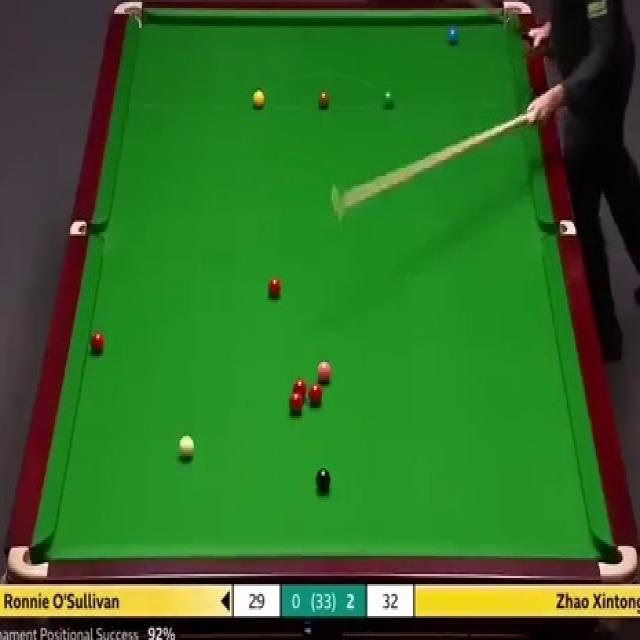black-ball: (315, 469, 332, 488)
blue-ball: (448, 27, 458, 48)
brown-ball: (317, 92, 330, 109)
green-ball: (382, 88, 396, 112)
pink-ball: (316, 359, 332, 383)
red-ball: (88, 330, 106, 356), (308, 383, 324, 407), (293, 378, 307, 402), (266, 278, 282, 297), (289, 392, 303, 413)
white-ball: (177, 433, 195, 460)
yellow-ball: (252, 89, 266, 110)
